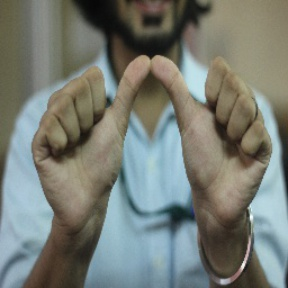A: (53, 50, 256, 206)
